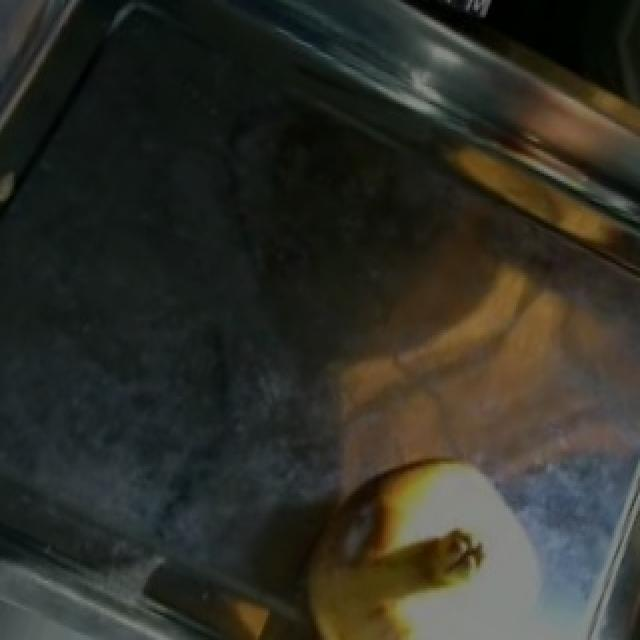fruit: (278, 427, 540, 638)
